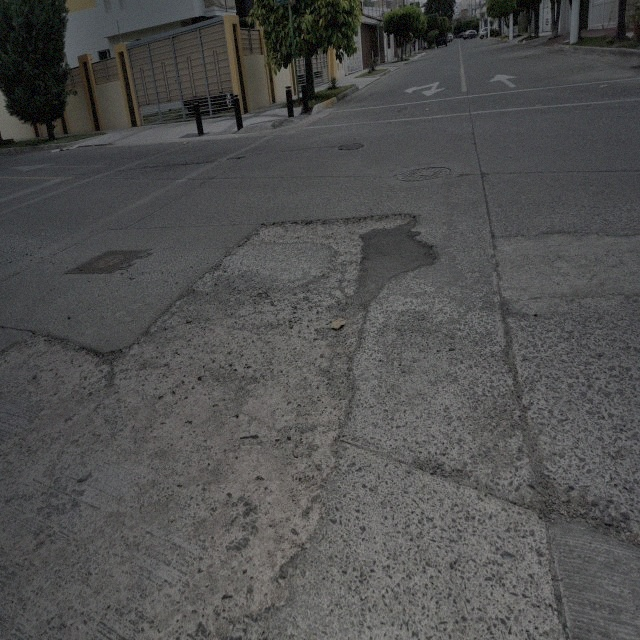pothole: (115, 299, 365, 514), (214, 206, 414, 294)
